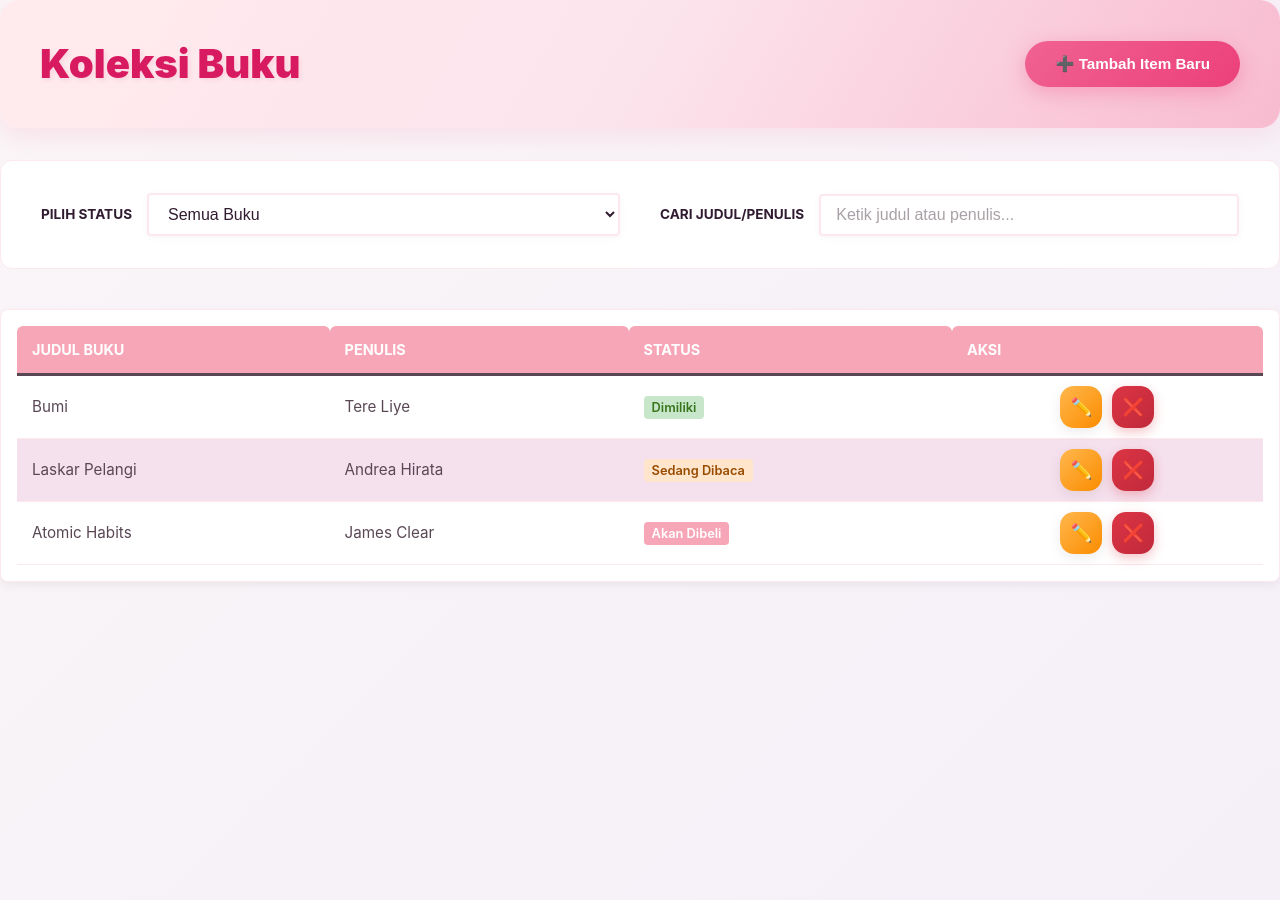
Aplikasi Manajemen Inventaris Buku › Filter status berfungsi di Halaman Home
# Mengubah nilai select ke 'baca'
Select "Sedang Dibaca" in the dropdown labelled "Pilih Status" at (384, 214), box x1=147 y1=193 x2=620 y2=236
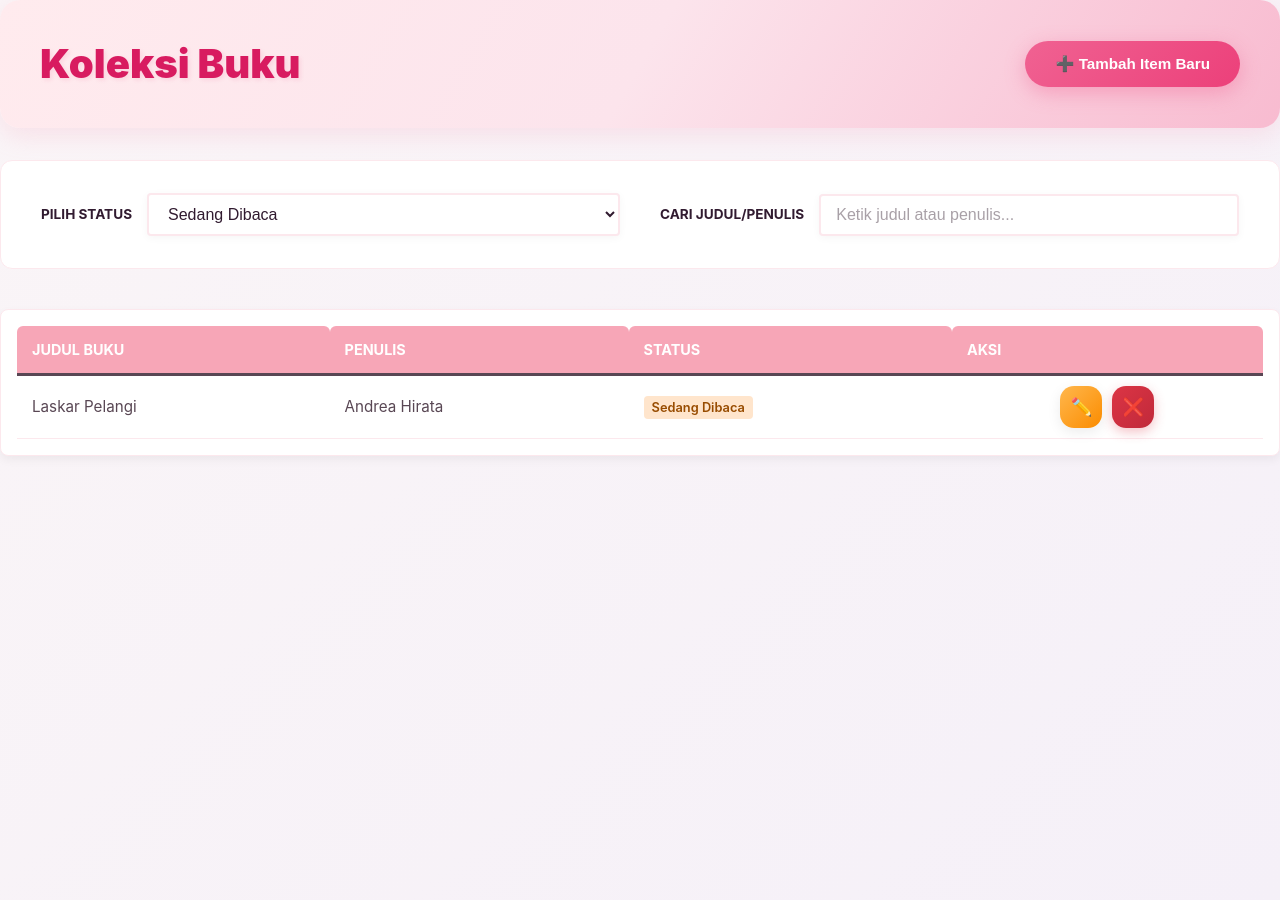
Expected: the text "Laskar Pelangi" is shown, x1=17 y1=374 x2=330 y2=438
Expected: the text "Bumi" is gone
Expected: the text "Atomic Habits" is gone
